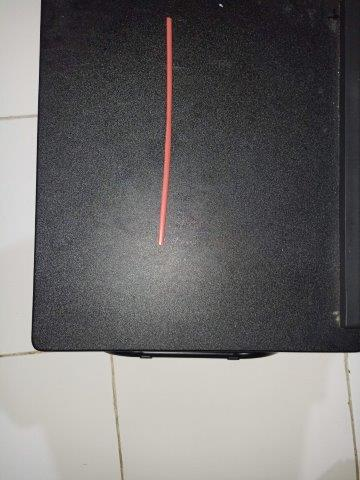sedotan: (158, 18, 172, 244)
